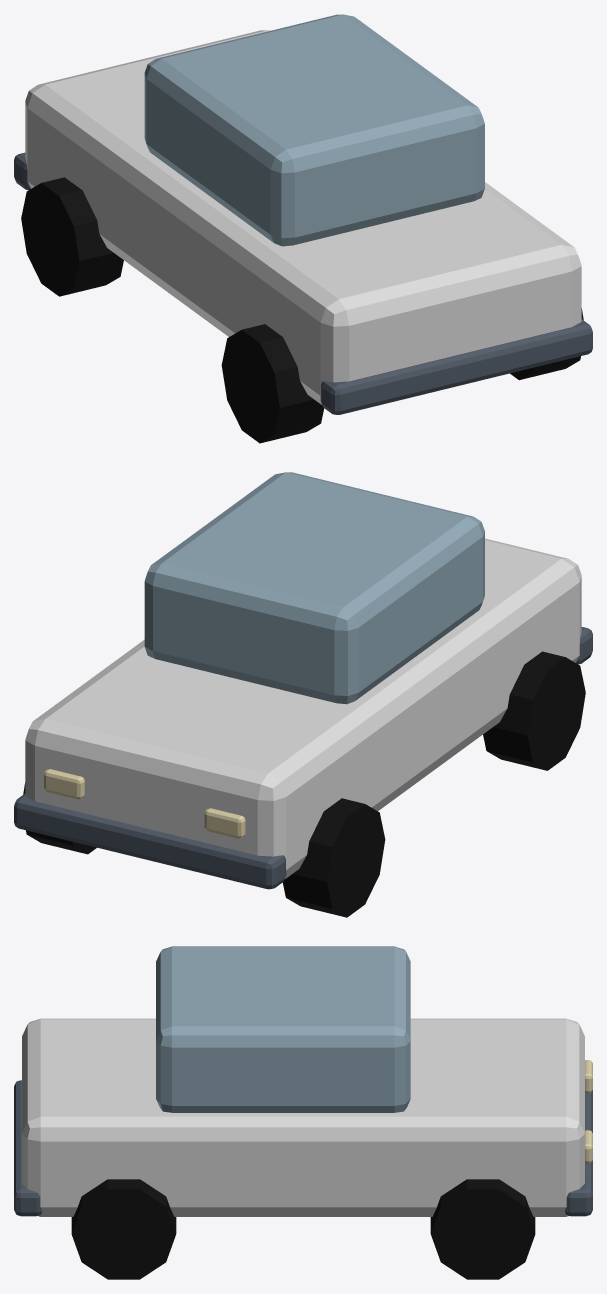
Rendered from car.glb.
The picture shows the model from 3 angles, top to bottom: view 1: azimuth 30°, elevation 25°; view 2: azimuth 150°, elevation 25°; view 3: azimuth 270°, elevation 25°; orthographic projection. The views are drawn at different scales.
Visible parts, largest first — view 1: car; view 2: car; view 3: car.
Part boxes in pixels (x1,y1,x2,y2): car: (14, 14, 592, 443); car: (14, 472, 592, 917); car: (14, 946, 592, 1279).
Bounding box in the file's own units: 2.36 × 1.86 × 4.32.
